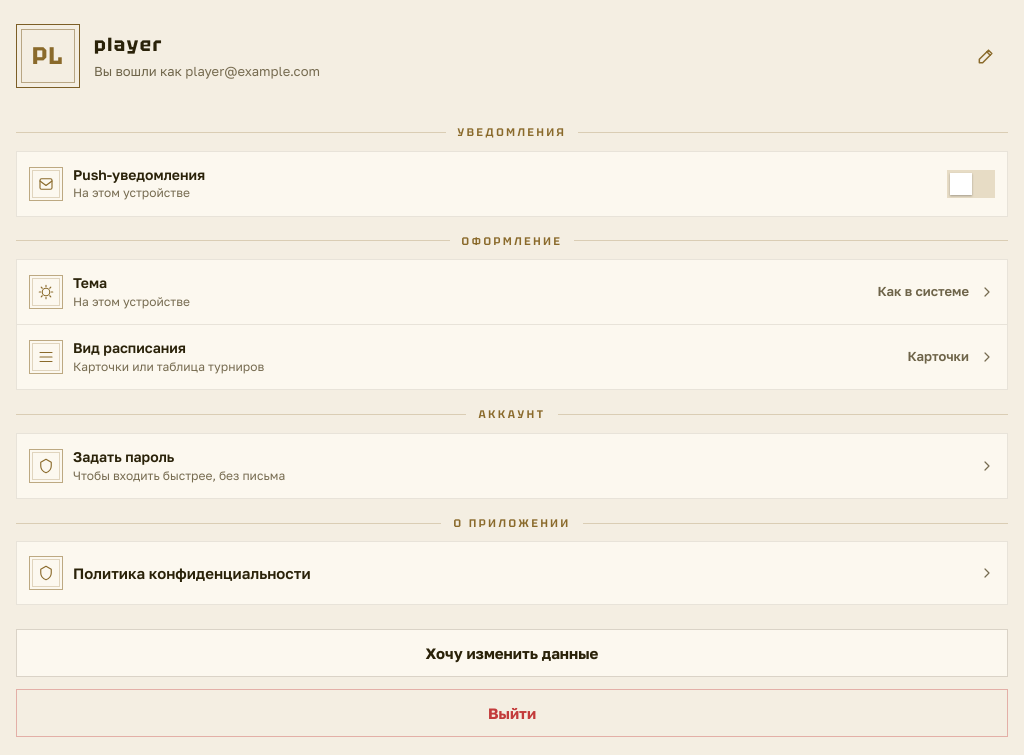
Test case: ProfilePage › shows the real reason when the nickname is taken
Expected: the heading "player" is shown, [94,32,163,57]
Click the button named "Редактировать профиль" at (986, 56), box [964,34,1008,78]
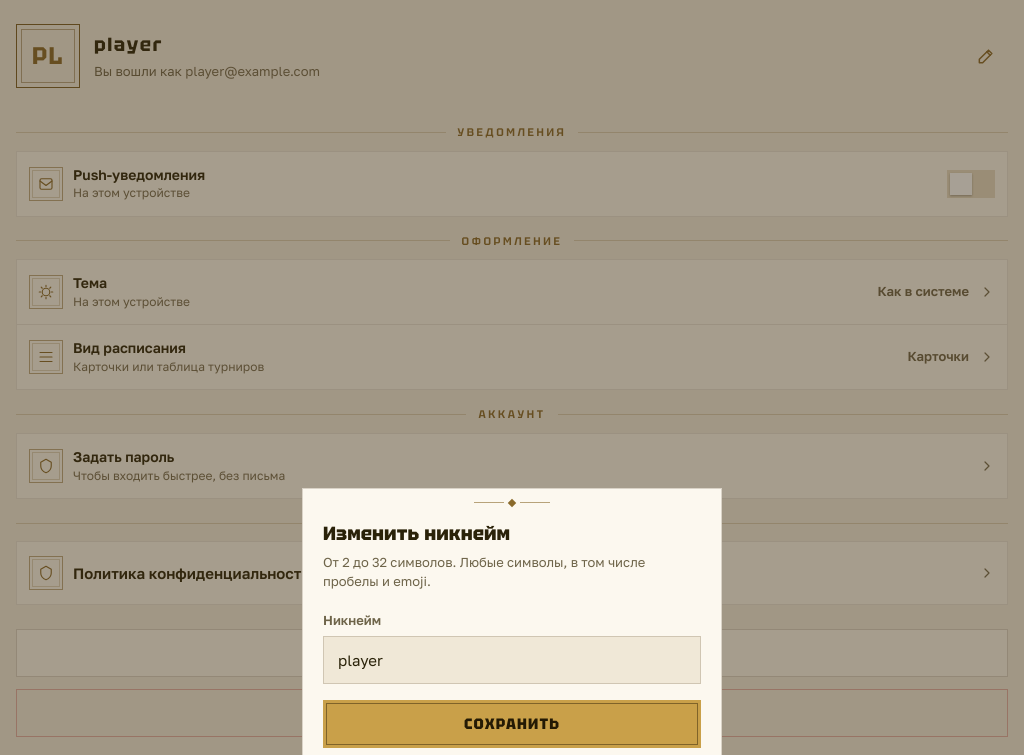
Replace the text in the field labelled "Никнейм" with "taken" at (512, 660), box [323,636,701,684]
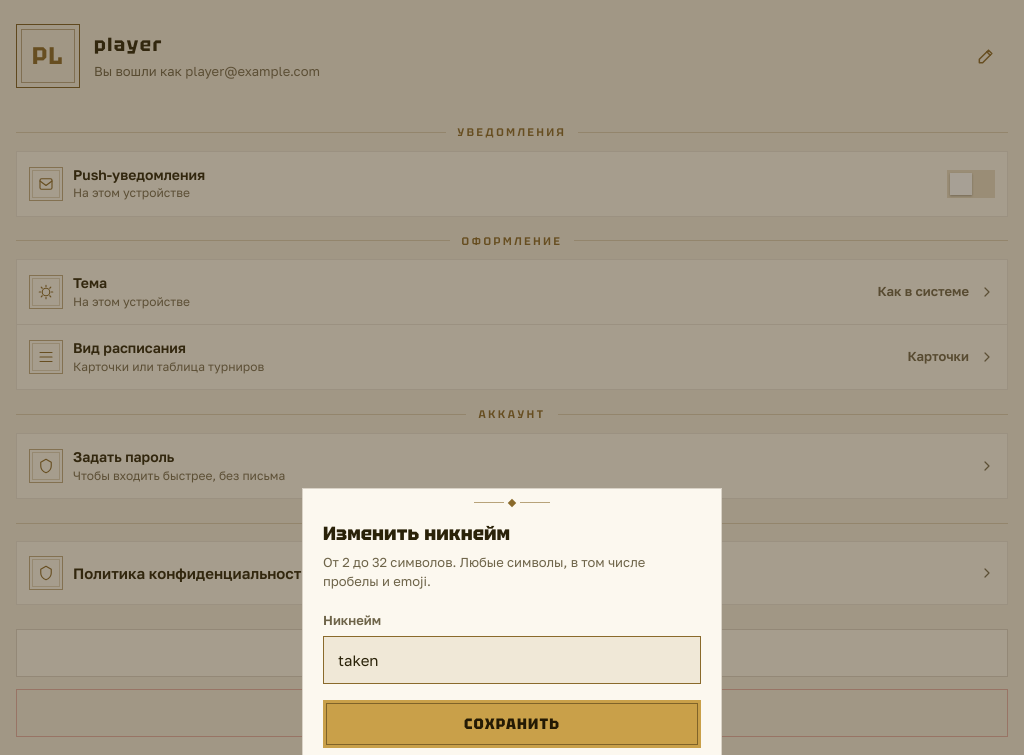
Click the button "Сохранить" at (512, 724), box [323,700,701,748]
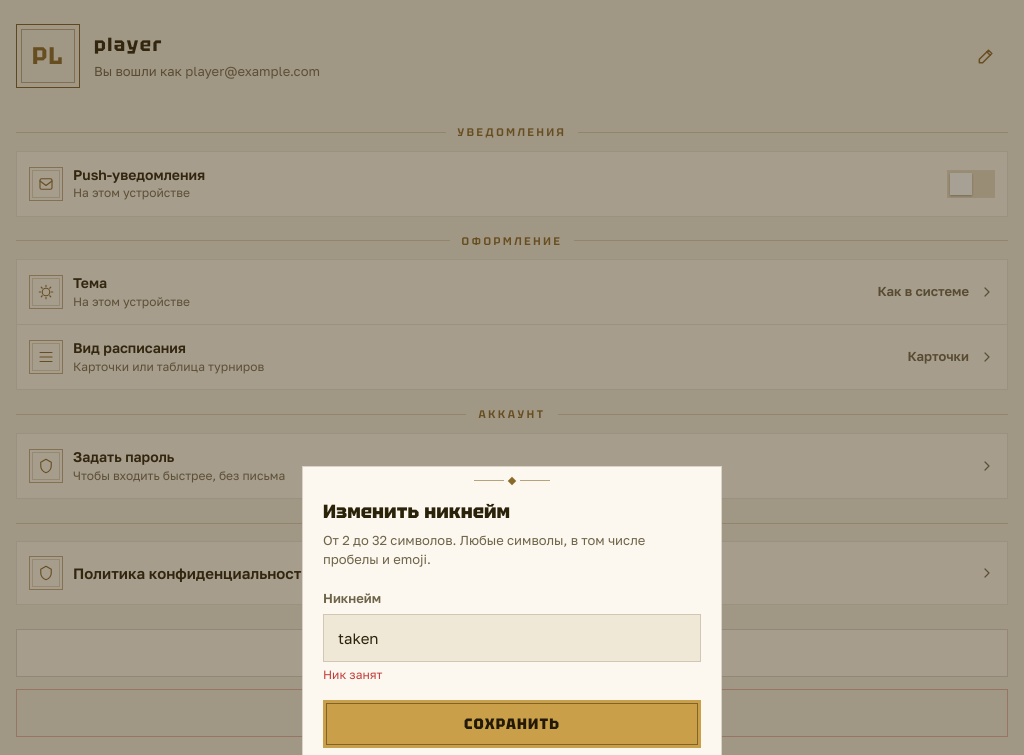
Expected: the text with test id "nickname-error" reads "Ник занят", [323,667,382,682]
